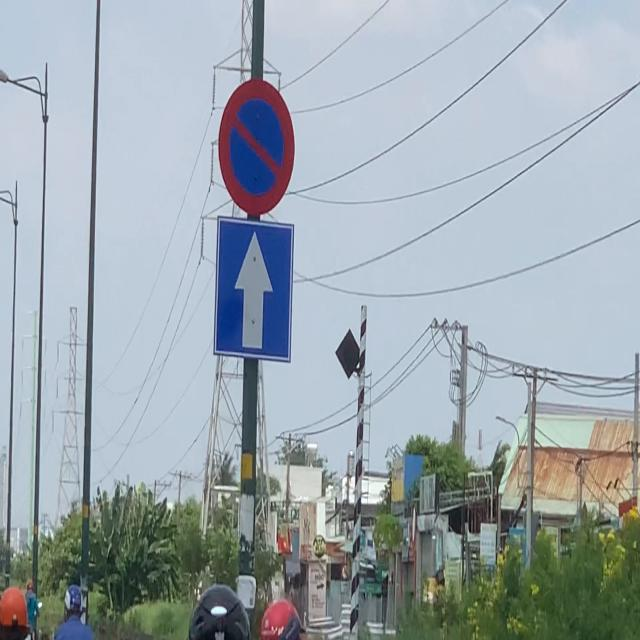Cam do: (217, 77, 296, 216)
Hieu lenh: (212, 215, 295, 364)
